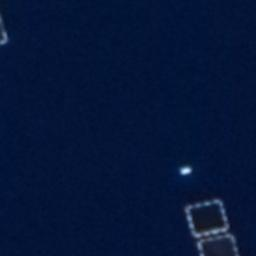square_solid: (180, 195, 235, 242), (193, 231, 243, 256)
